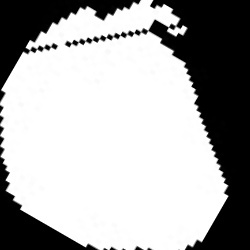spot: (1, 2, 229, 249)
